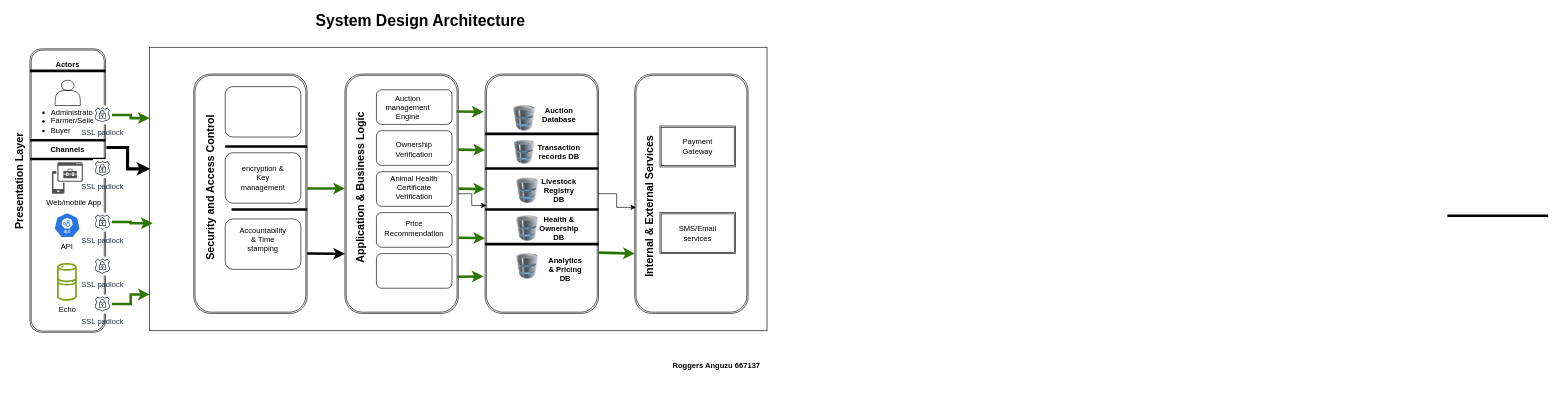
Some shapes in this 1560 by 393 pixel diagram are drawn without their labels. Each missing label, with the centre of its shape:
Auction Activation: (414,270)
authentication & authorization: (263,111)
